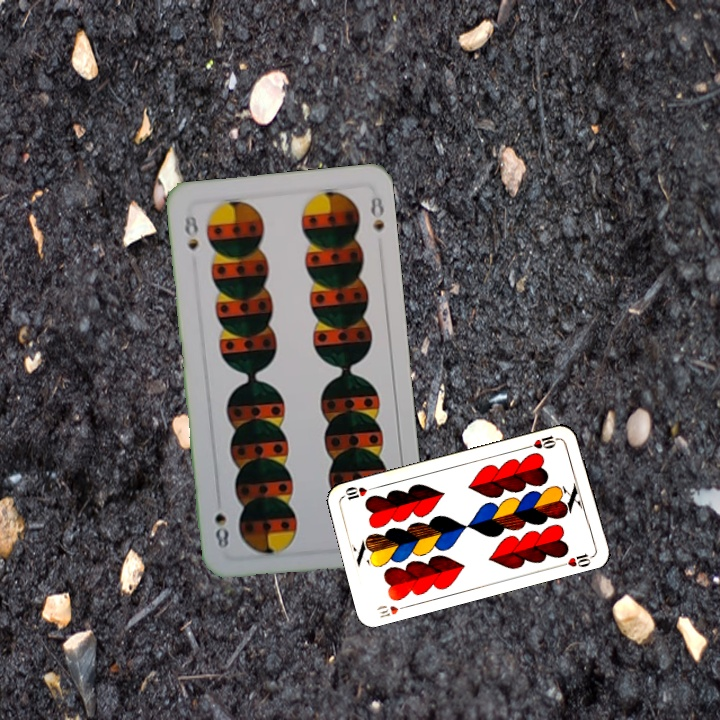H10: (523, 431, 563, 451), (373, 601, 412, 620)
S8: (181, 211, 201, 253)
